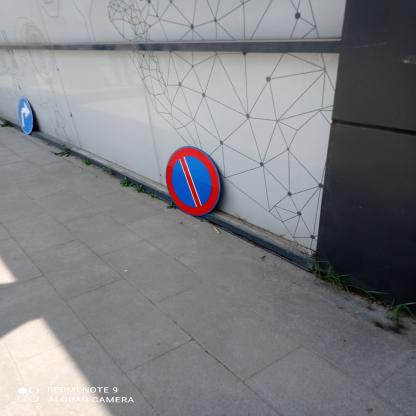No Waiting: (168, 147, 222, 217)
